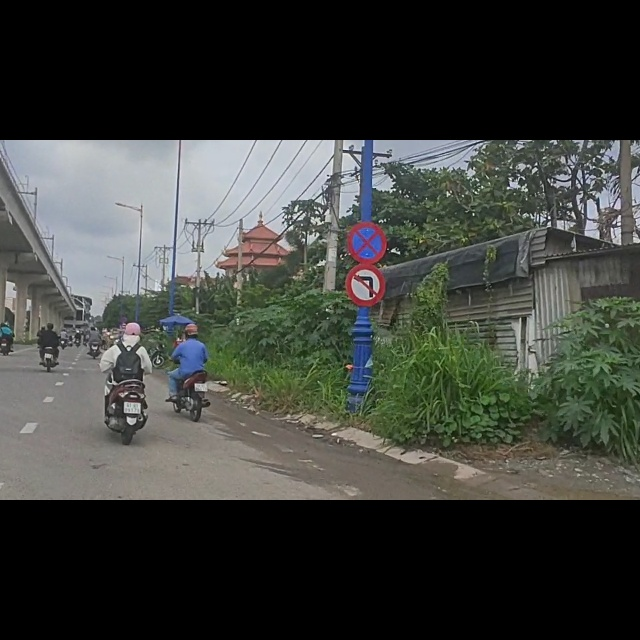bien_cam: (347, 146, 387, 220), (345, 224, 385, 295)
